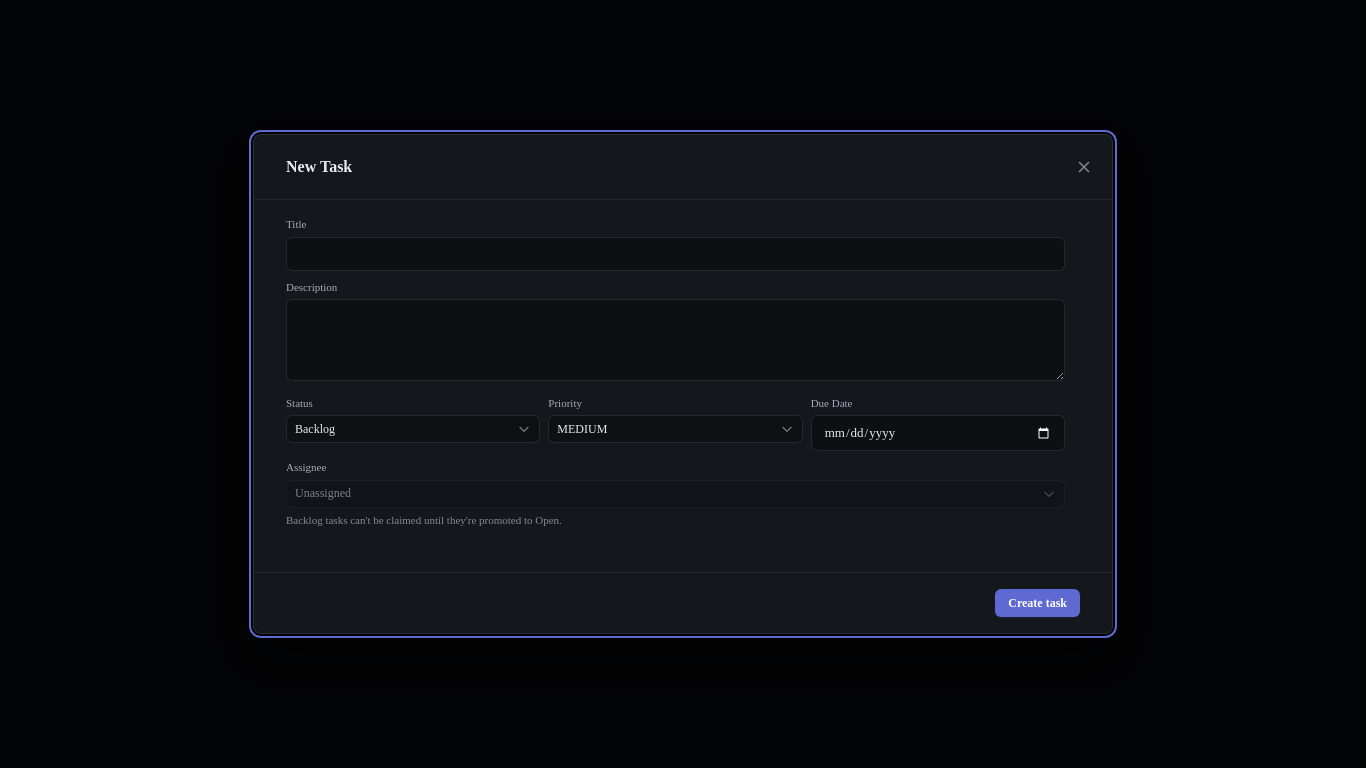
Test: NewTaskModal -- Status dropdown › offers exactly Backlog (first) then Open
Click the dropdown named "Status" at (413, 429), box [286, 415, 540, 443]
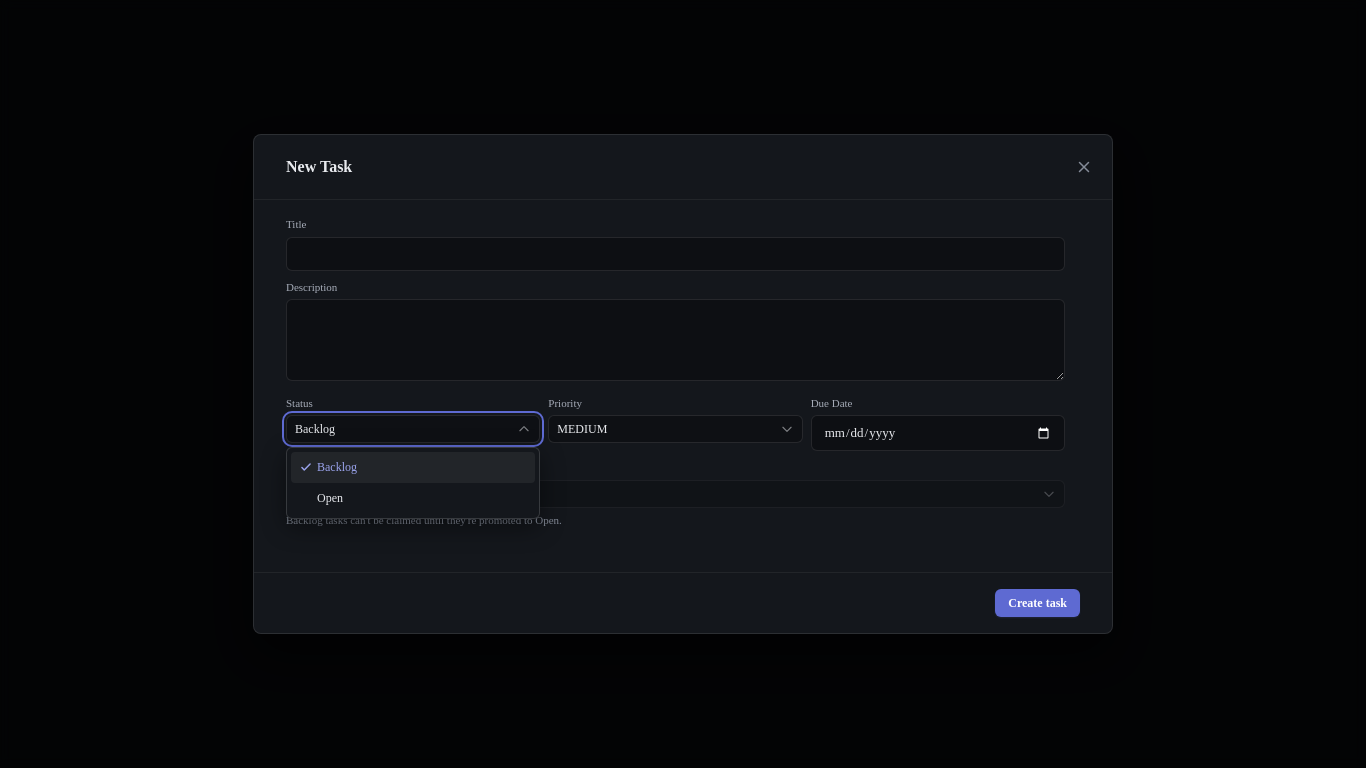
Now the options read "Backlog", "Open", in this order, box [291, 452, 535, 483]; [317, 491, 343, 505]
